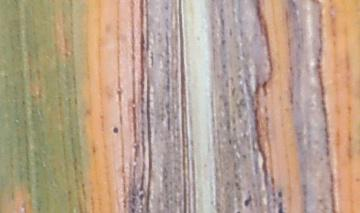tarspot: (243, 194, 253, 207), (276, 200, 286, 213), (111, 125, 119, 135), (276, 190, 283, 198), (234, 210, 241, 213)
